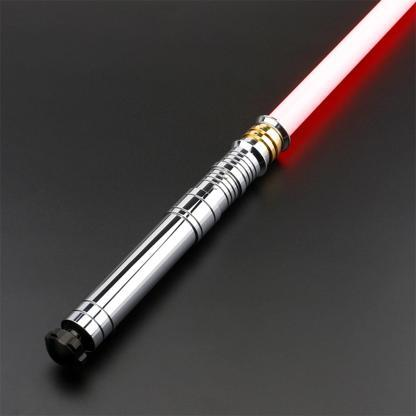sith_lightsaber: (41, 0, 416, 386)
